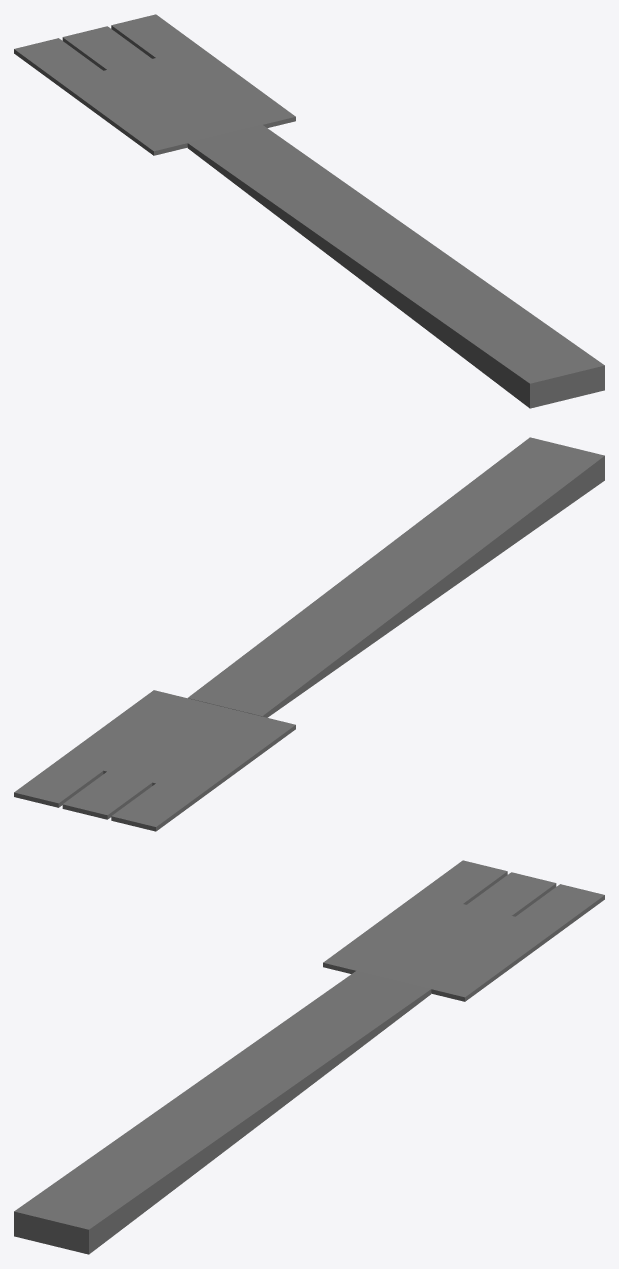
Rendered from Itr_Obj_Fork_03.FBX.
The picture shows the model from 3 angles, top to bottom: view 1: azimuth 30°, elevation 25°; view 2: azimuth 150°, elevation 25°; view 3: azimuth 330°, elevation 25°; orthographic projection.
Parts seen in each view (by area): view 1: Itr_Obj_Fork_03; view 2: Itr_Obj_Fork_03; view 3: Itr_Obj_Fork_03.
Boxes of the visible parts, <box> form: Itr_Obj_Fork_03: <box>14,14,604,408</box>; Itr_Obj_Fork_03: <box>14,437,604,831</box>; Itr_Obj_Fork_03: <box>14,860,604,1254</box>.
Size of the model in its own units: 0.8283 by 0.1387 by 4.87.
